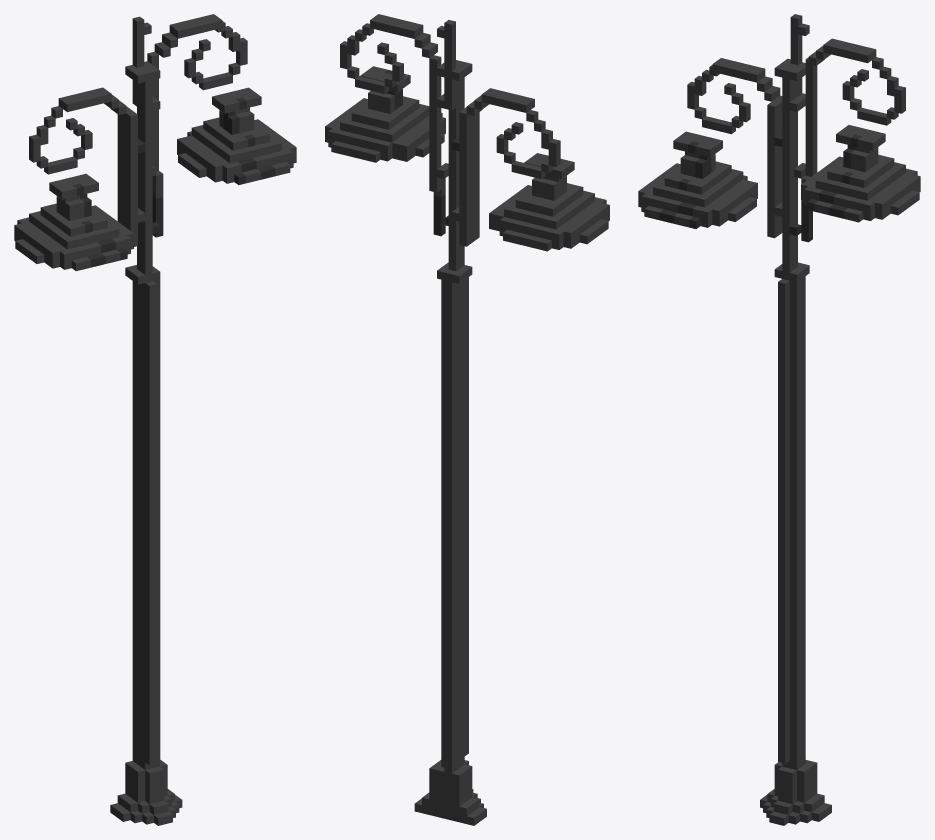
Rendered from drzewko-0.obj.
The picture shows the model from 3 angles, left to right: view 1: azimuth 30°, elevation 25°; view 2: azimuth 150°, elevation 25°; view 3: azimuth 330°, elevation 25°; orthographic projection.
Size of the model in its own units: 3.5 by 10.2 by 1.3.
Materials: 1 (1 with a texture image).
